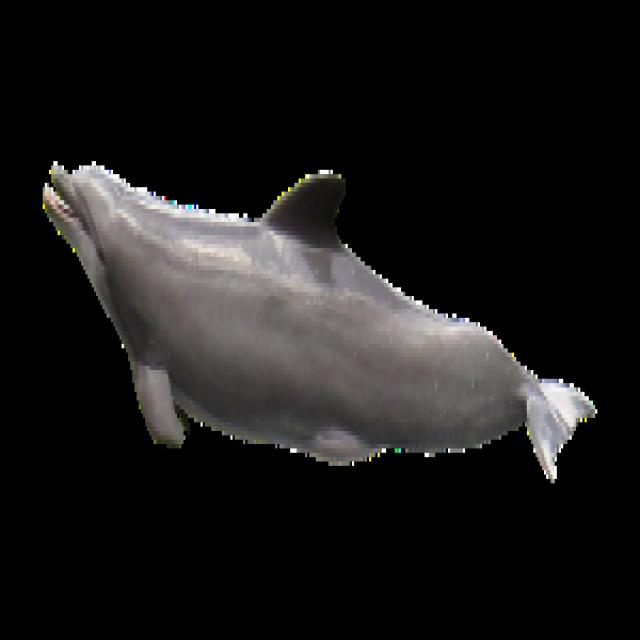Dolphin: (21, 140, 610, 503)
